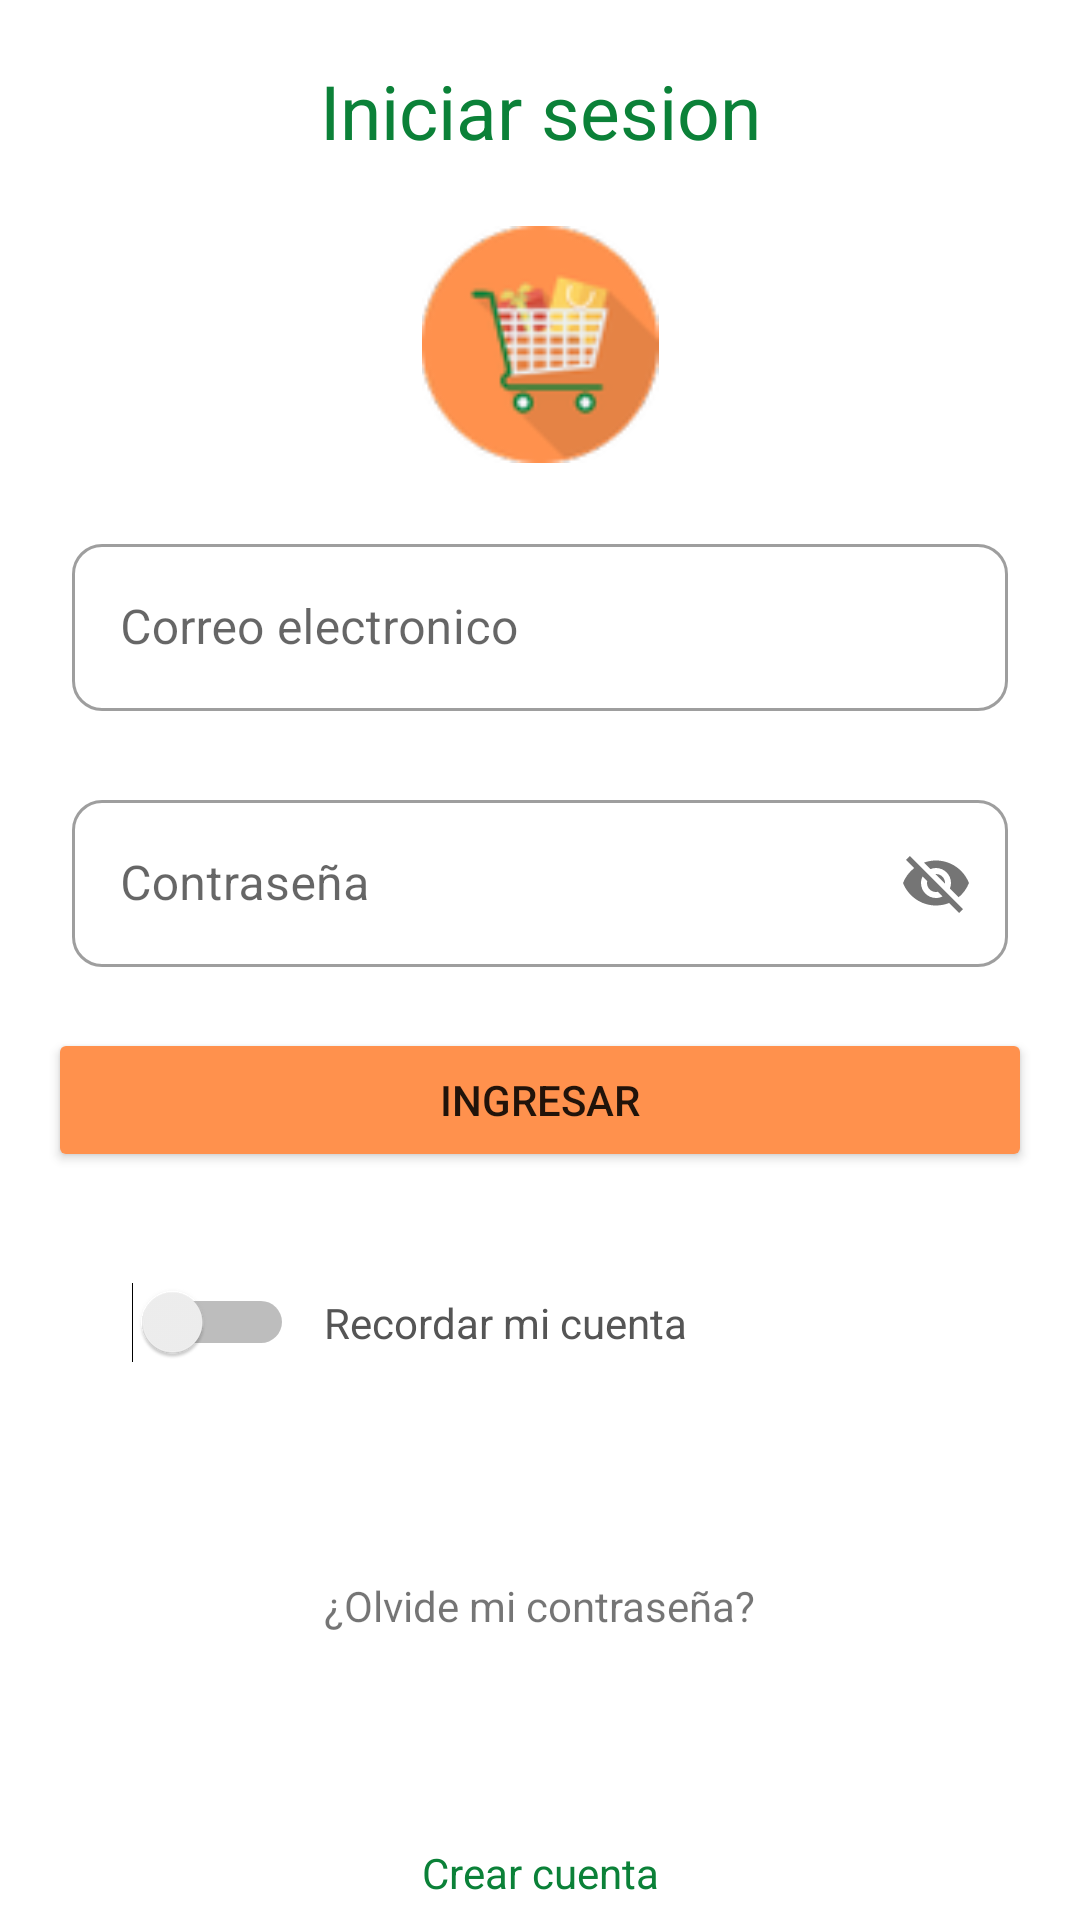

Named icons in this screenshot (1080 × 1920) and their centers, point (x, y):
market main: point (540, 344)
